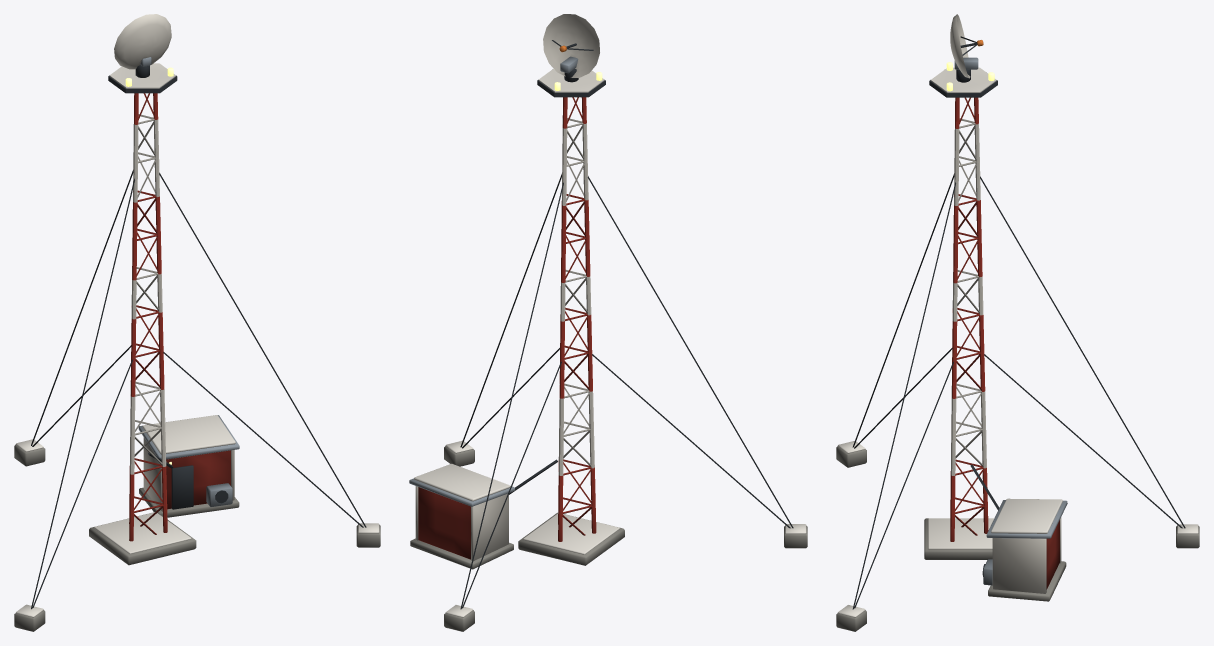
The model's file is radio_mast.glb.
The picture shows the model from 3 angles, left to right: view 1: azimuth 30°, elevation 25°; view 2: azimuth 150°, elevation 25°; view 3: azimuth 270°, elevation 25°; orthographic projection.
Visible parts, largest first — view 1: radio_mast_snow, radio_mast_iron, radio_mast_signal_red, radio_mast_white_paint, radio_mast_concrete, radio_mast_radar_dish_white_paint, radio_mast_red_timber, radio_mast_zinc; view 2: radio_mast_snow, radio_mast_white_paint, radio_mast_signal_red, radio_mast_iron, radio_mast_concrete, radio_mast_red_timber, radio_mast_radar_dish_white_paint, radio_mast_zinc; view 3: radio_mast_white_paint, radio_mast_snow, radio_mast_signal_red, radio_mast_iron, radio_mast_concrete, radio_mast_zinc, radio_mast_radar_dish_white_paint, radio_mast_red_timber.
Boxes of the visible parts, <box> form: radio_mast_snow: <box>15,63,379,617</box>; radio_mast_iron: <box>31,75,366,609</box>; radio_mast_signal_red: <box>129,93,167,541</box>; radio_mast_white_paint: <box>130,114,234,510</box>; radio_mast_concrete: <box>14,444,380,631</box>; radio_mast_radar_dish_white_paint: <box>114,14,171,69</box>; radio_mast_red_timber: <box>166,450,230,509</box>; radio_mast_zinc: <box>138,415,239,506</box>; radio_mast_snow: <box>414,68,806,617</box>; radio_mast_white_paint: <box>415,118,594,560</box>; radio_mast_signal_red: <box>558,97,596,541</box>; radio_mast_iron: <box>460,80,793,609</box>; radio_mast_concrete: <box>410,446,807,631</box>; radio_mast_red_timber: <box>418,487,470,559</box>; radio_mast_radar_dish_white_paint: <box>543,14,599,77</box>; radio_mast_zinc: <box>409,478,514,506</box>; radio_mast_white_paint: <box>951,118,1061,593</box>; radio_mast_snow: <box>838,67,1198,617</box>; radio_mast_signal_red: <box>950,97,988,541</box>; radio_mast_iron: <box>852,80,1185,609</box>; radio_mast_concrete: <box>836,446,1199,631</box>; radio_mast_zinc: <box>983,500,1067,585</box>; radio_mast_radar_dish_white_paint: <box>950,14,970,78</box>; radio_mast_red_timber: <box>1046,520,1059,589</box>.
Bounding box in the file's own units: 15.89 × 22.07 × 13.78.
